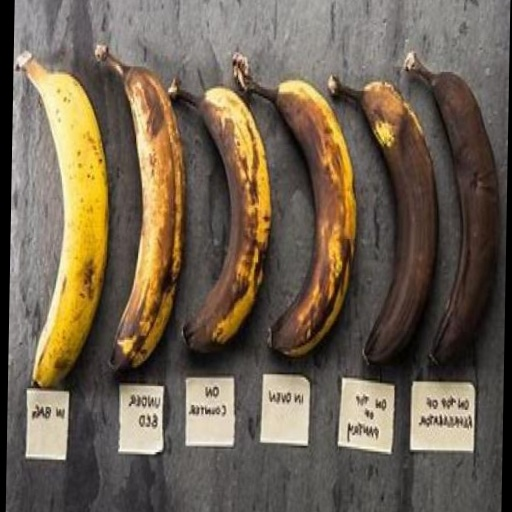fruit: (232, 54, 355, 356), (14, 53, 107, 387), (328, 76, 436, 363), (95, 45, 184, 369), (405, 53, 498, 363), (168, 82, 269, 351)
